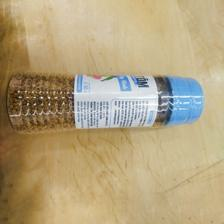TayNinh_blue: (3, 71, 207, 131)
